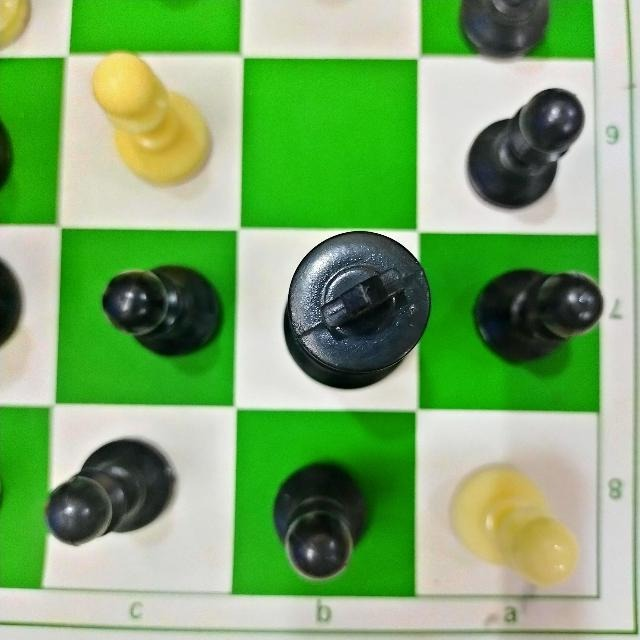black-king: (267, 222, 440, 396)
black-pawn: (441, 453, 590, 593), (37, 420, 174, 554), (461, 75, 591, 215), (256, 453, 384, 585), (465, 252, 609, 368), (93, 255, 229, 367)
white-pawn: (78, 37, 228, 200)
